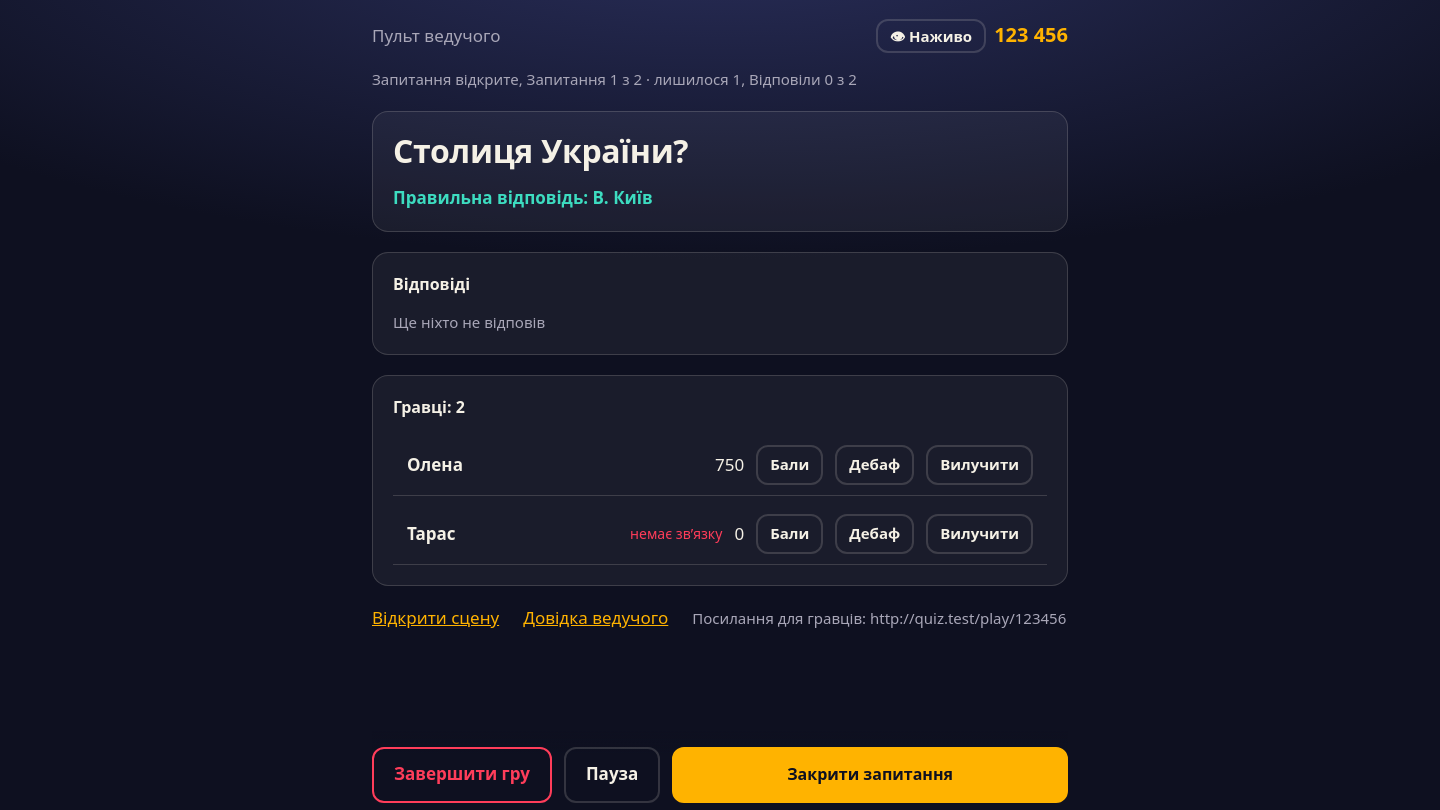
Test: HostScreen player tools › one tools panel opens at a time
Click the button "Бали" in the row of "Олена" at [790, 465], box [756,445,823,485]
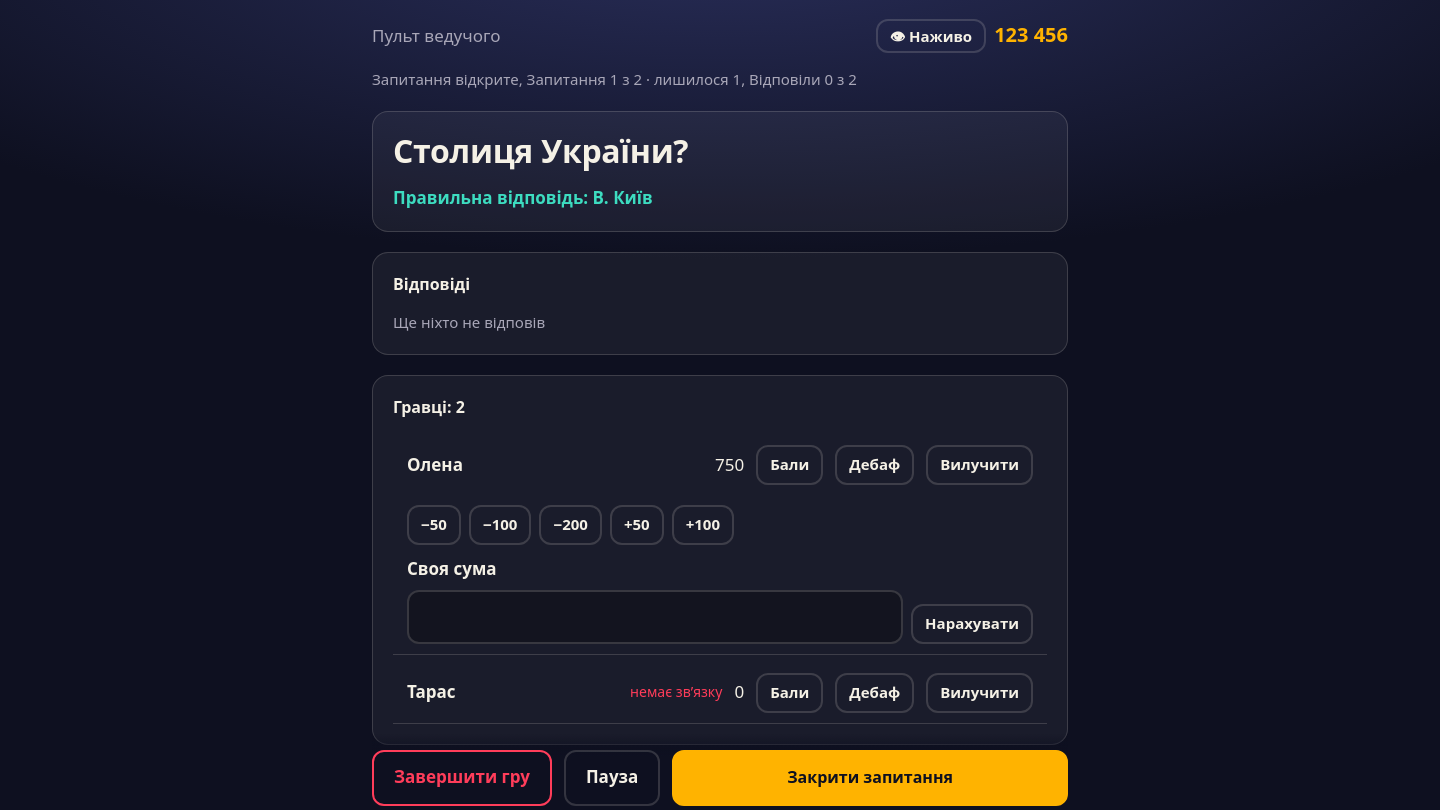
Expected: the field labelled "Своя сума" is shown, [407,590,903,644]
Click the button "Дебаф" in the row of "Тарас" at [875, 693], box [835,673,914,713]
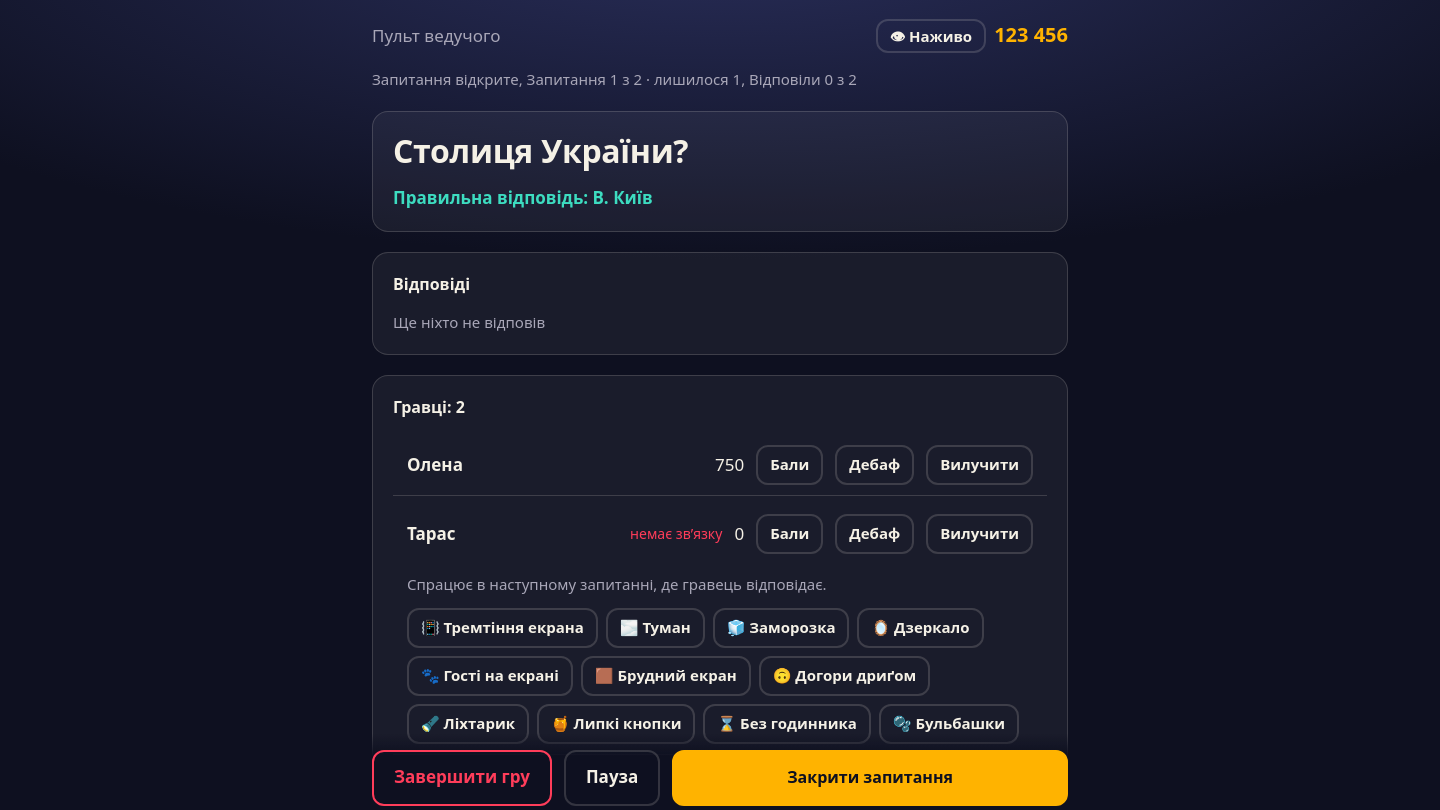
Expected: the label labelled "Своя сума" is gone
Expected: the button "Дебаф" in the row of "Тарас" is expanded
Expected: the text "Спрацює в наступному запитанні, де гравець відповідає." is shown, [407,574,827,594]
Click the button "Дебаф" in the row of "Тарас" at [875, 534], box [835,514,914,554]
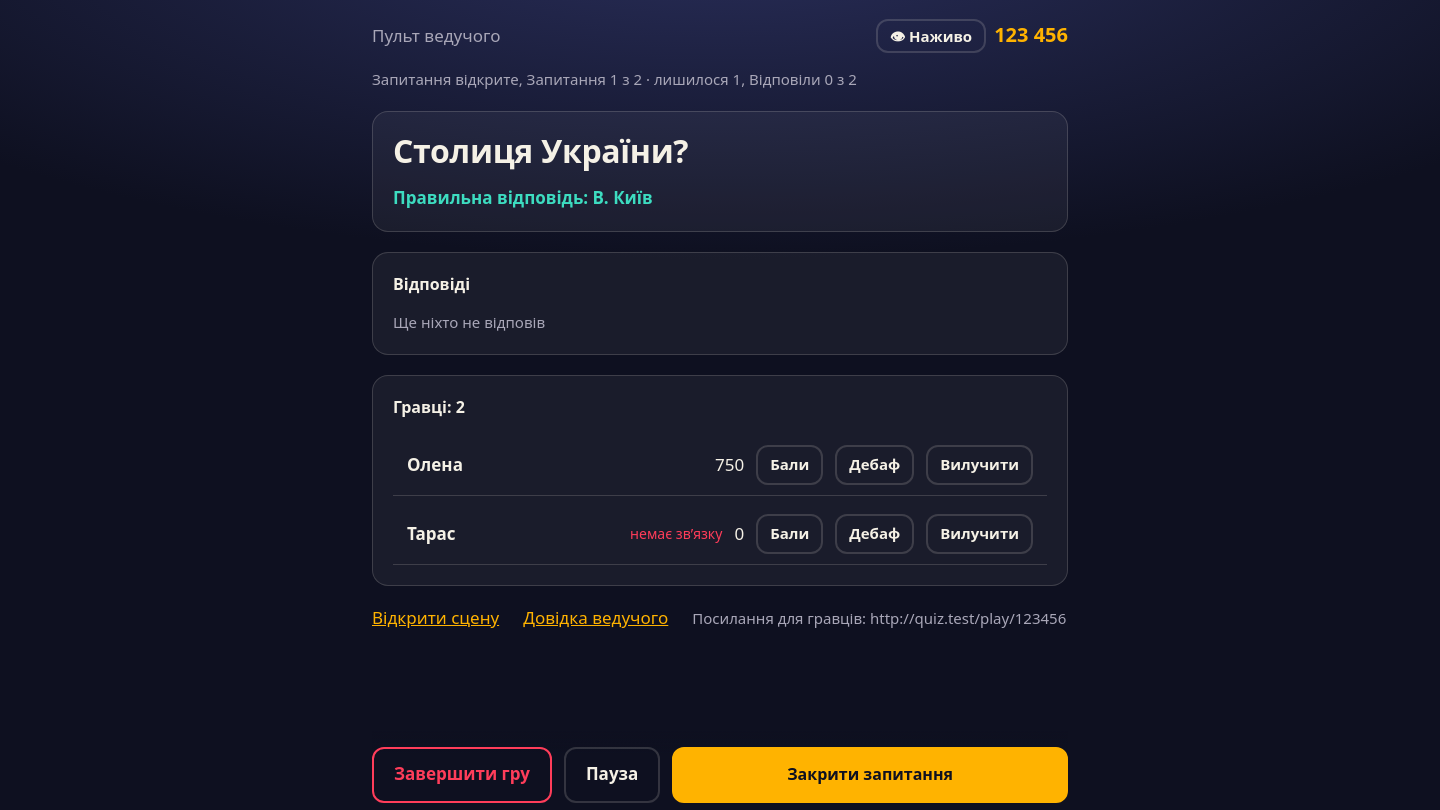
Expected: the text "Спрацює в наступному запитанні, де гравець відповідає." is gone
